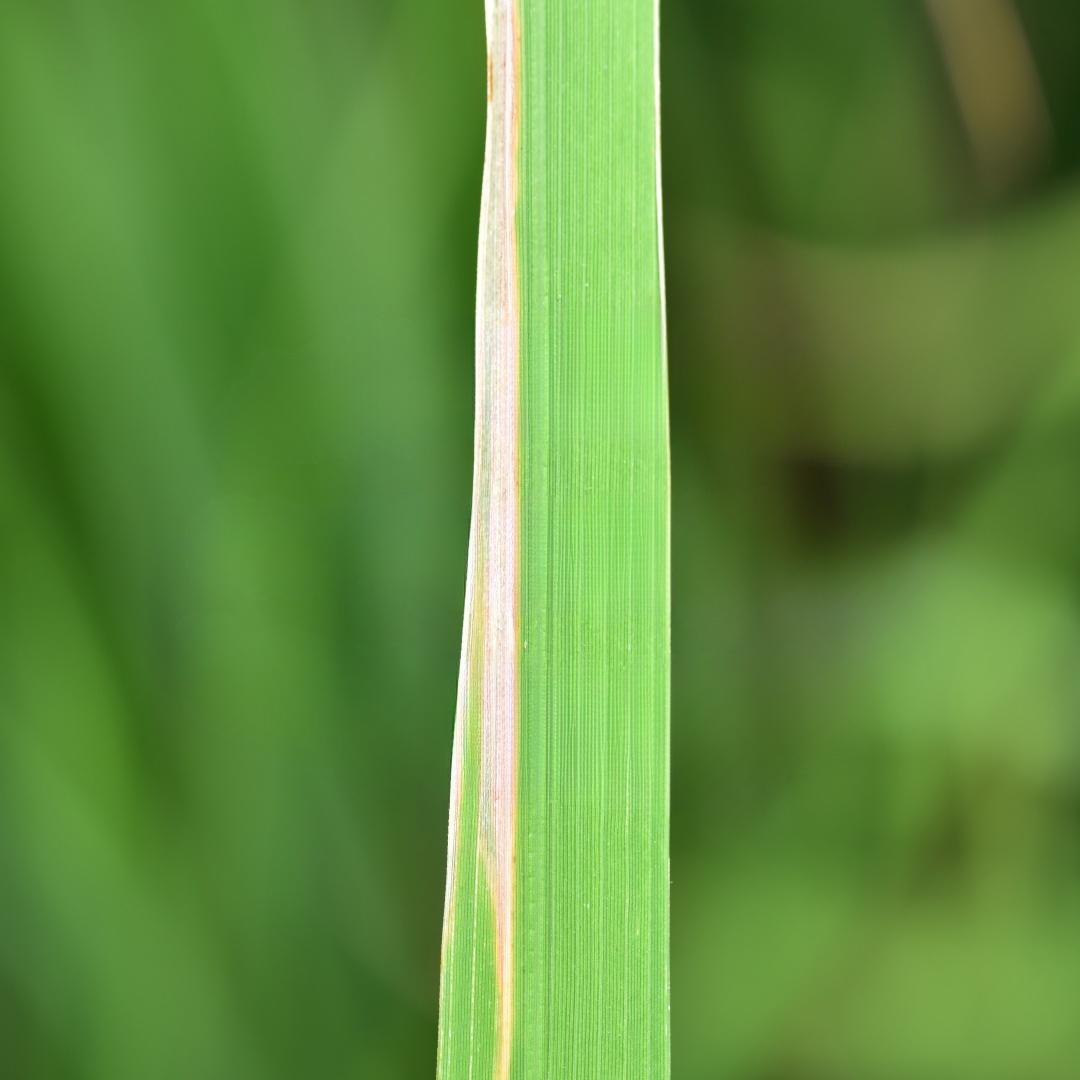BLB: (443, 0, 521, 1079)
